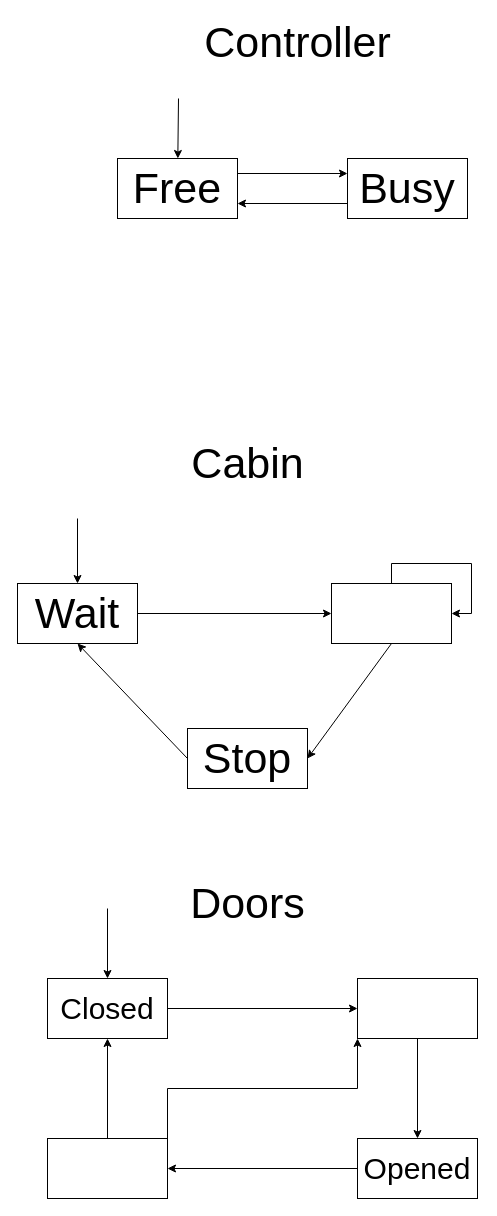
This 497x1216 diagram has some shape labels left out. Each missing label, with the box of its shape:
Closing: (46, 1138, 168, 1198)
Move: (330, 582, 452, 644)
Opening: (356, 978, 478, 1038)
